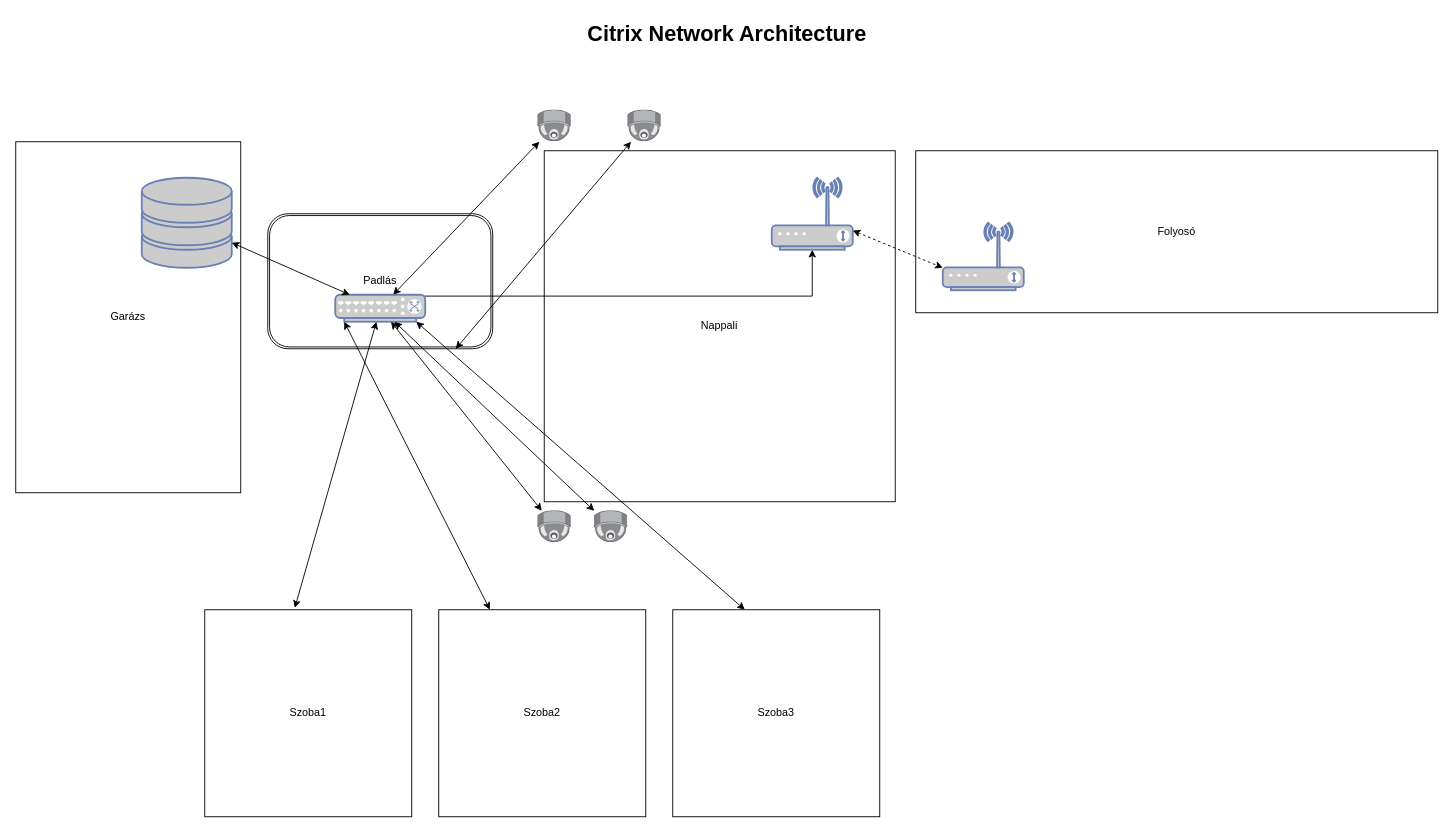
This 1454x833 diagram has some shape labels left out. Each missing label, with the centre of its shape:
16 port switch: point 380,307
NAS, Stb: point 186,222
Telekom modem/wifi router: point 811,213
Wifi erősítő: point 982,256
